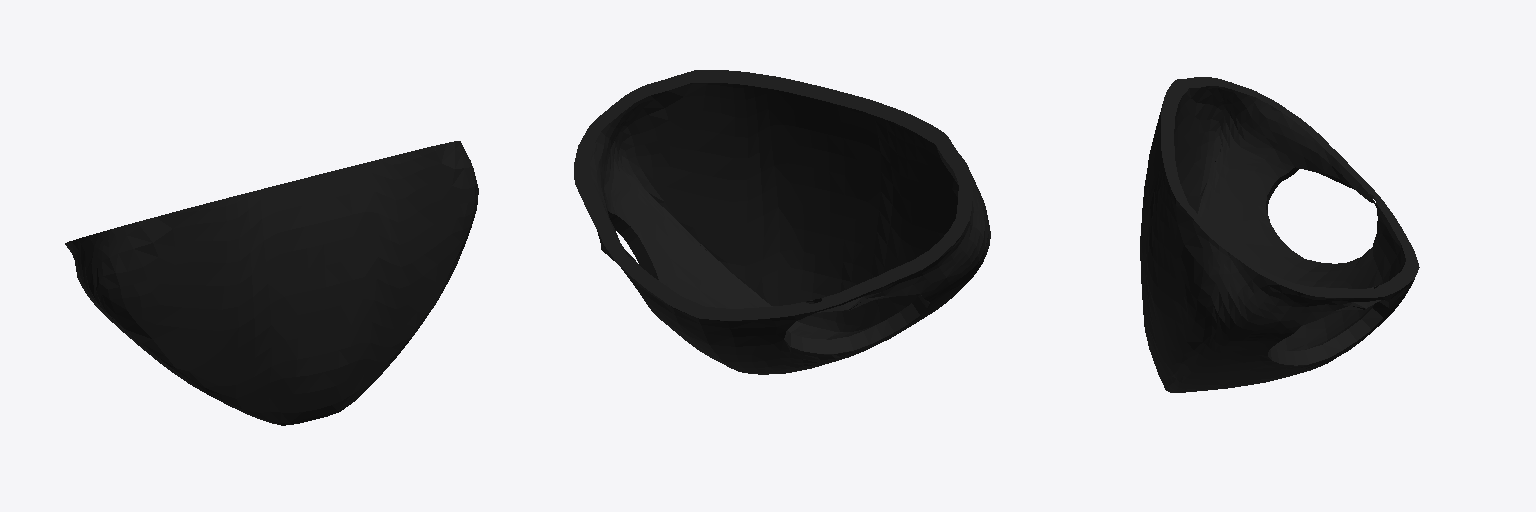
The model's file is example_head_nose.obj.
The picture shows the model from 3 angles: view 1: azimuth 30°, elevation 25°; view 2: azimuth 150°, elevation 25°; view 3: azimuth 270°, elevation 25°; orthographic projection.
Visible parts, largest first — view 1: MeshBody1 (1); view 2: MeshBody1 (1); view 3: MeshBody1 (1).
Part boxes in pixels (bbox=[...]): MeshBody1 (1): bbox=[65, 141, 478, 425]; MeshBody1 (1): bbox=[574, 70, 990, 374]; MeshBody1 (1): bbox=[1140, 77, 1419, 392].
Bounding box in the file's own units: 129 × 79.46 × 80.92.